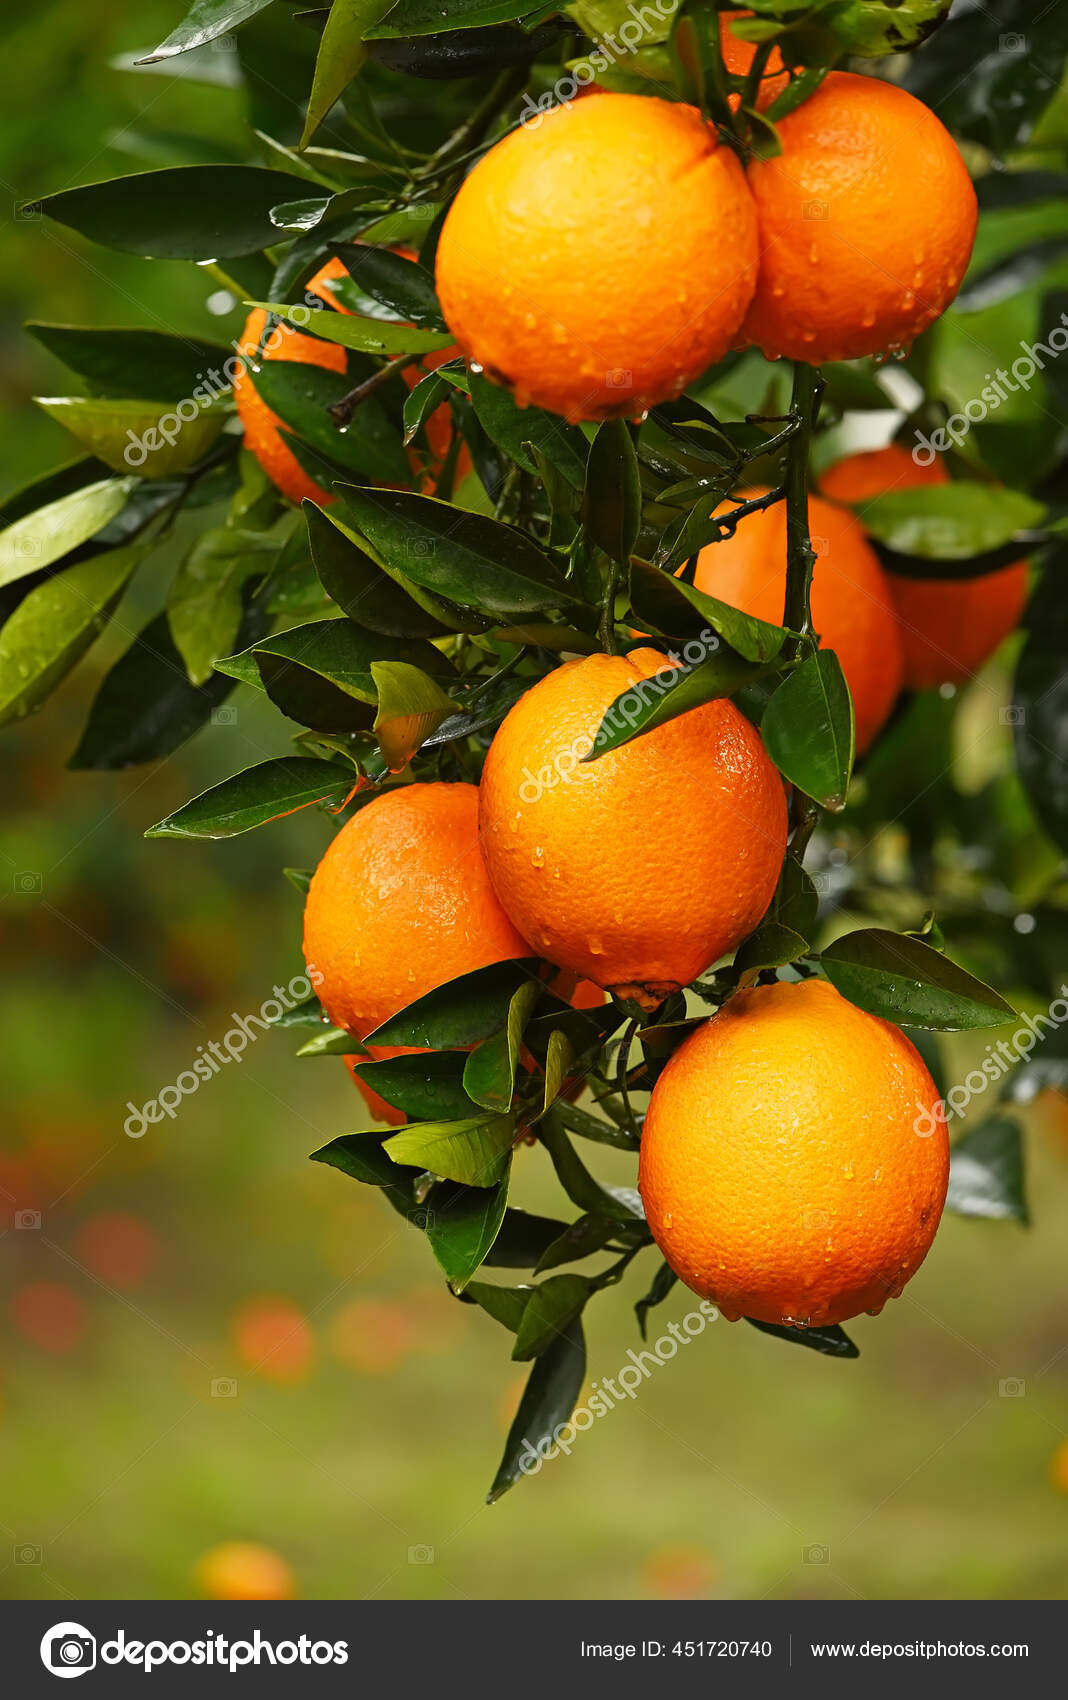portakal: (381, 41, 763, 426), (621, 999, 984, 1370), (481, 604, 807, 989)
